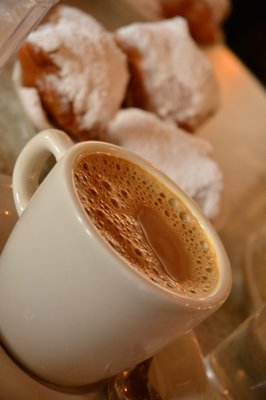pizza: (1, 131, 233, 396)
